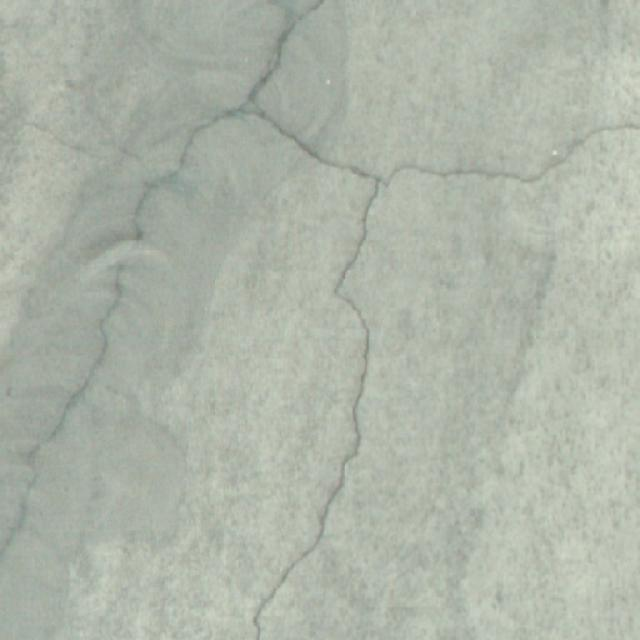Network: (3, 5, 640, 640)
